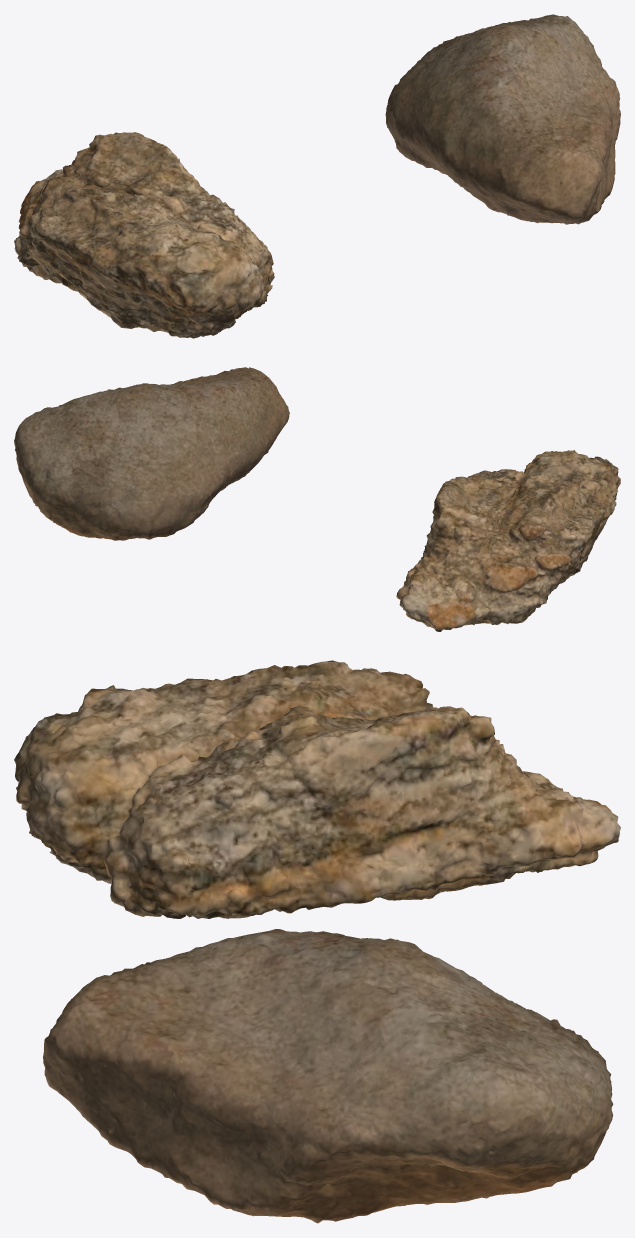
Rendered from boulders.glb.
The picture shows the model from 3 angles, top to bottom: view 1: azimuth 30°, elevation 25°; view 2: azimuth 150°, elevation 25°; view 3: azimuth 270°, elevation 25°; orthographic projection. The views are drawn at different scales.
Visible parts, largest first — view 1: namaqualand_rocks_01_a; view 2: namaqualand_rocks_01_a; view 3: namaqualand_rocks_01_a.
Part boxes in pixels (x1,y1,x2,y2): namaqualand_rocks_01_a: (14,14,620,338); namaqualand_rocks_01_a: (14,367,620,631); namaqualand_rocks_01_a: (14,660,620,1223).
Size of the model in its own units: 1.06 by 0.2516 by 0.5866.
1 material, 1 textured.
